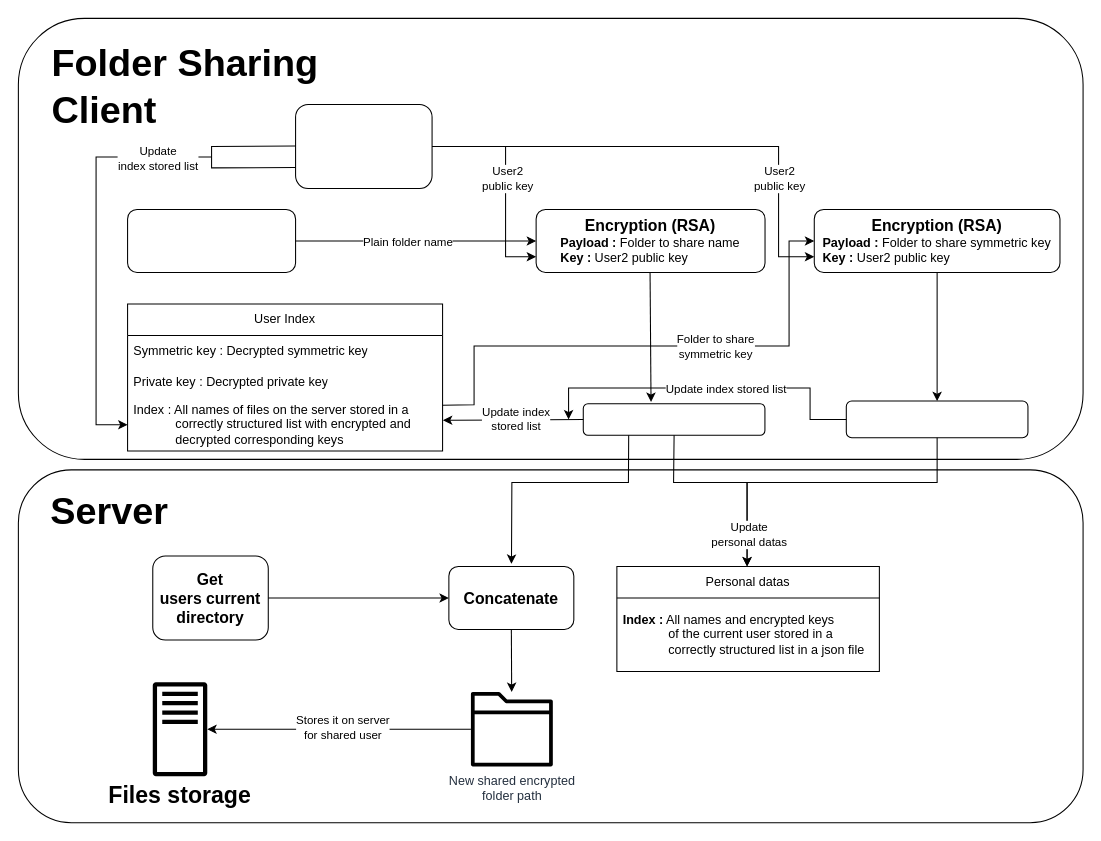
Image size: 1101x841. Some labels were removed from this diagram. The box of each missing label's shape, as (x1, y1, x2, y2) in pixels:
Encrypted Folder Name: (582, 403, 765, 435)
Encrypted Folder symmetric key: (845, 400, 1028, 438)
Shared to user2 Public key Username: (295, 103, 432, 188)
User1 Folder to share Folder name: (127, 208, 296, 272)
